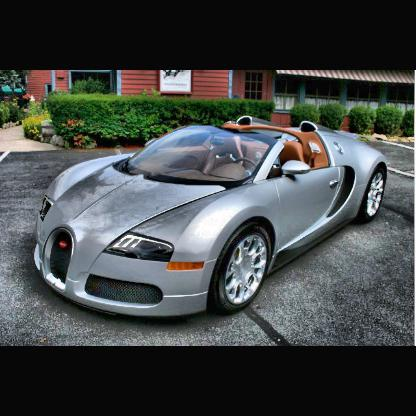Bugatti Veyron 16-4 Convertible 2009: (32, 117, 384, 315)
